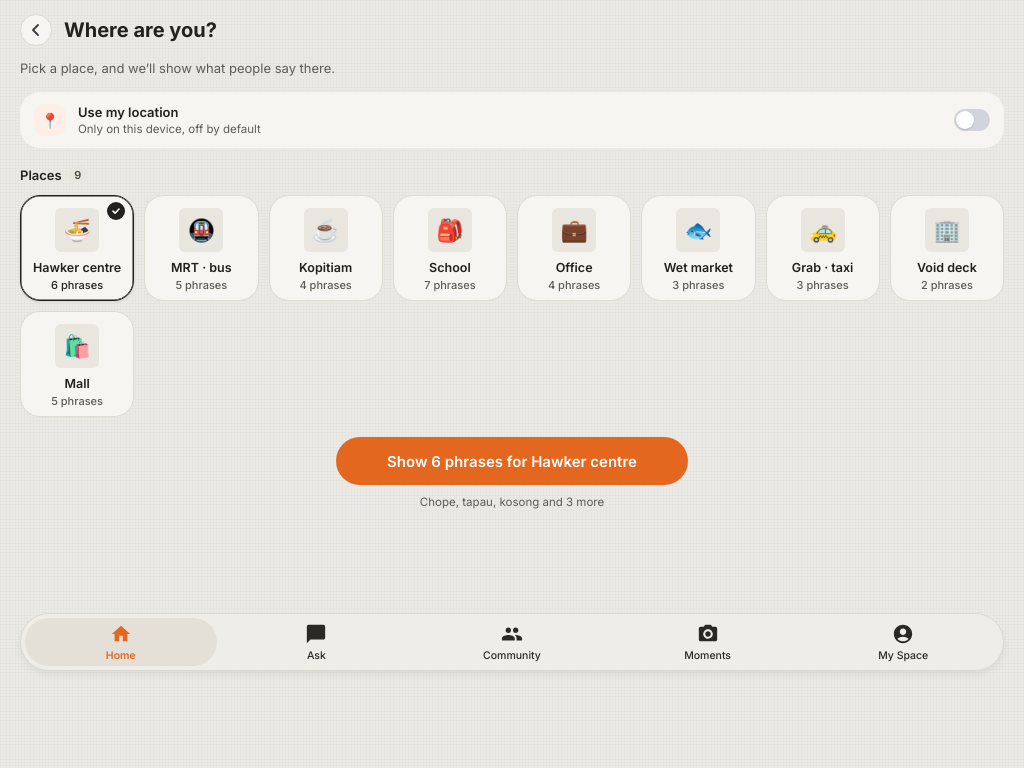
Scenario: Back opens Nearby
Click the button named "Back to Nearby".
click(36, 30)  # box [20,14,52,46]
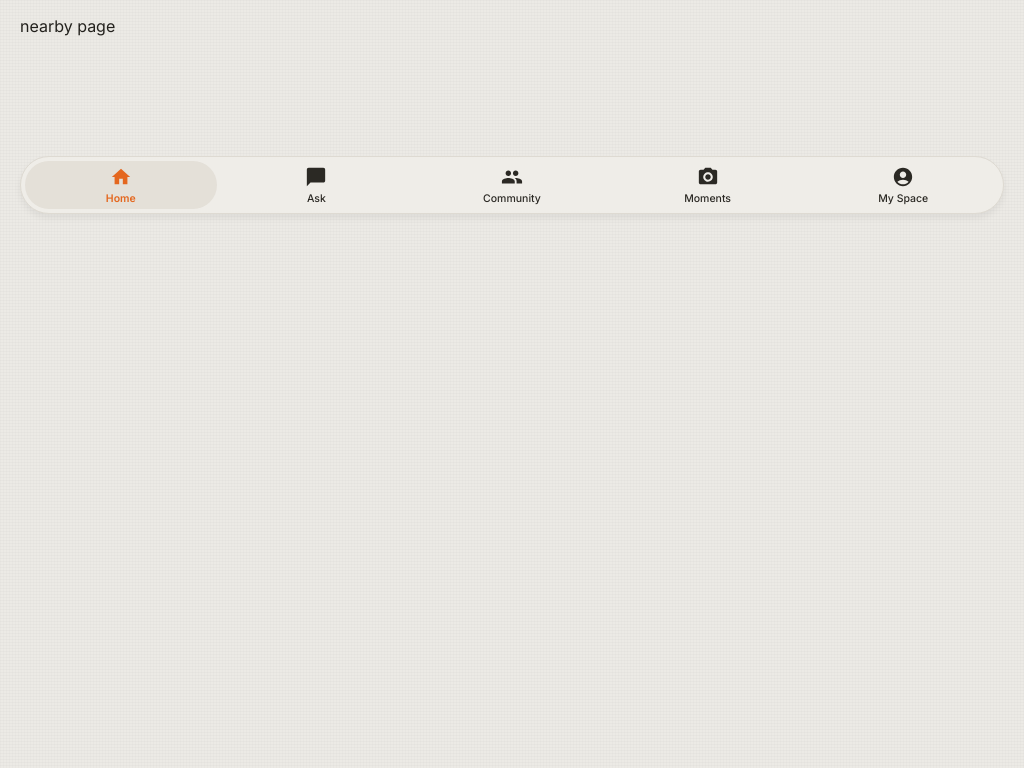
Check: the text "nearby page" is shown, box [20,16,115,36]
